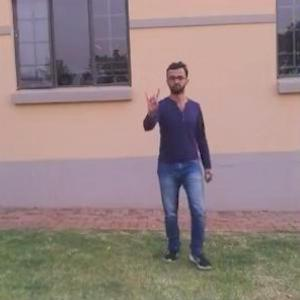takeoff-hand: (138, 80, 166, 122)
